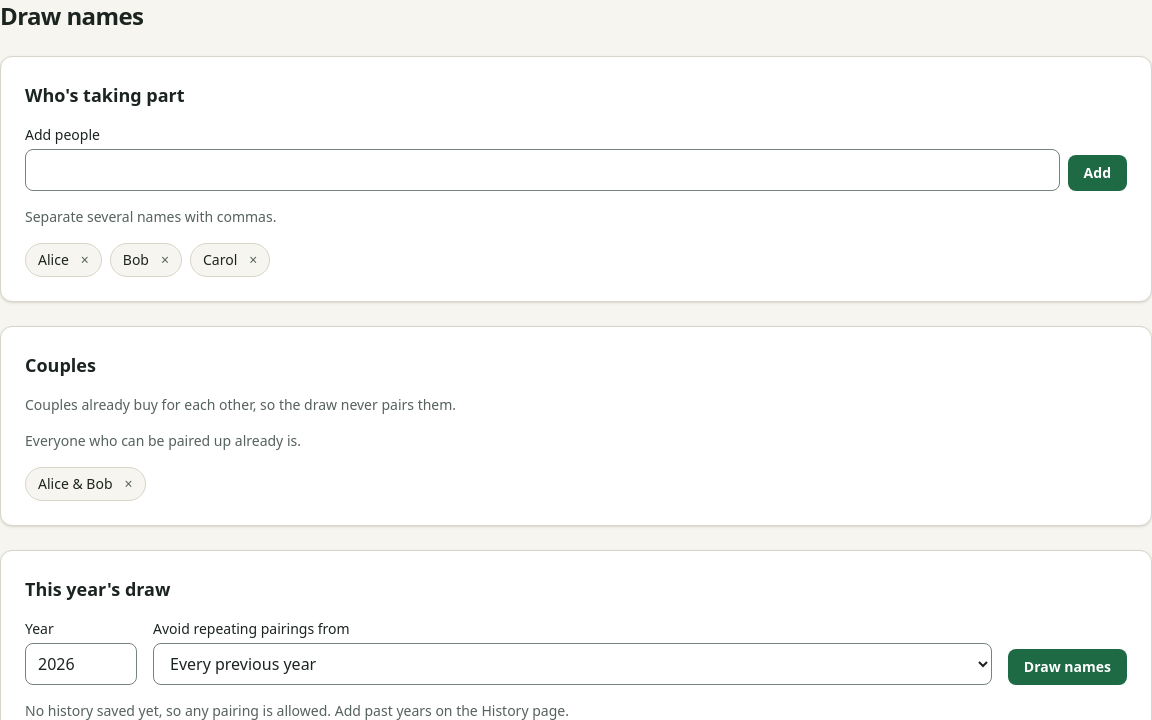
Test case: DrawPanel › couples › explains when a couple makes the draw impossible
Step 1. Click the button "Draw names" → (1067, 667), box [1008, 649, 1127, 685]
(page scrolled)
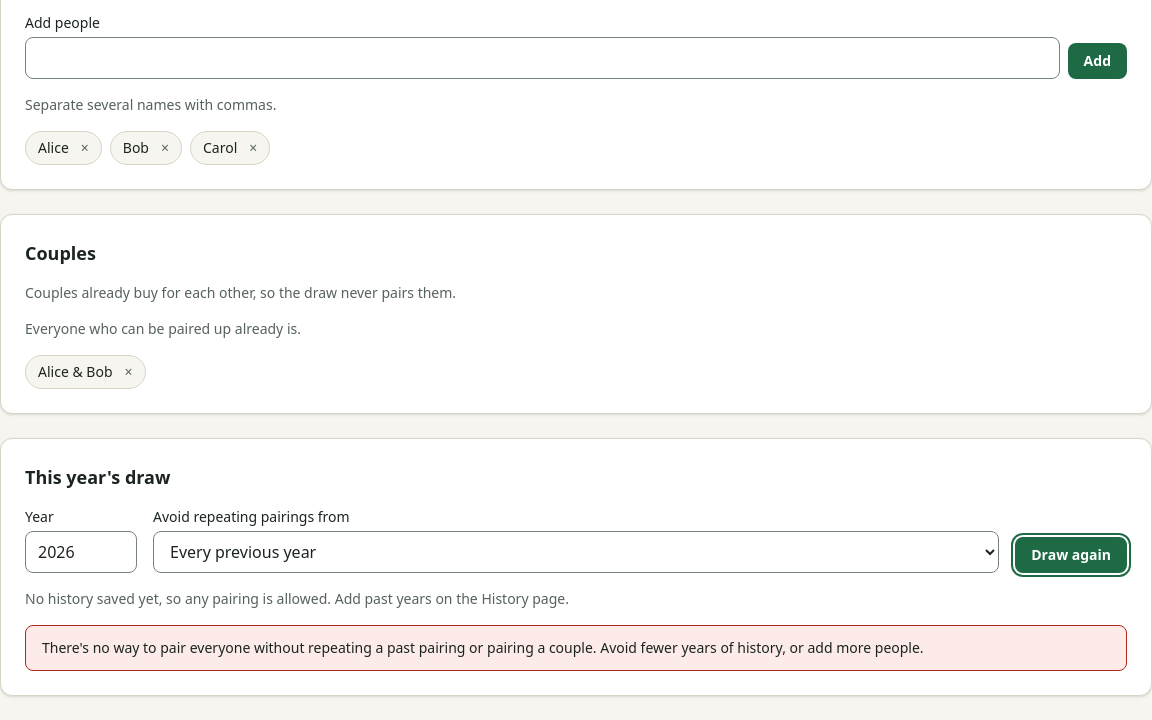
Expected: the message shows "pairing a couple", [42, 638, 924, 657]
